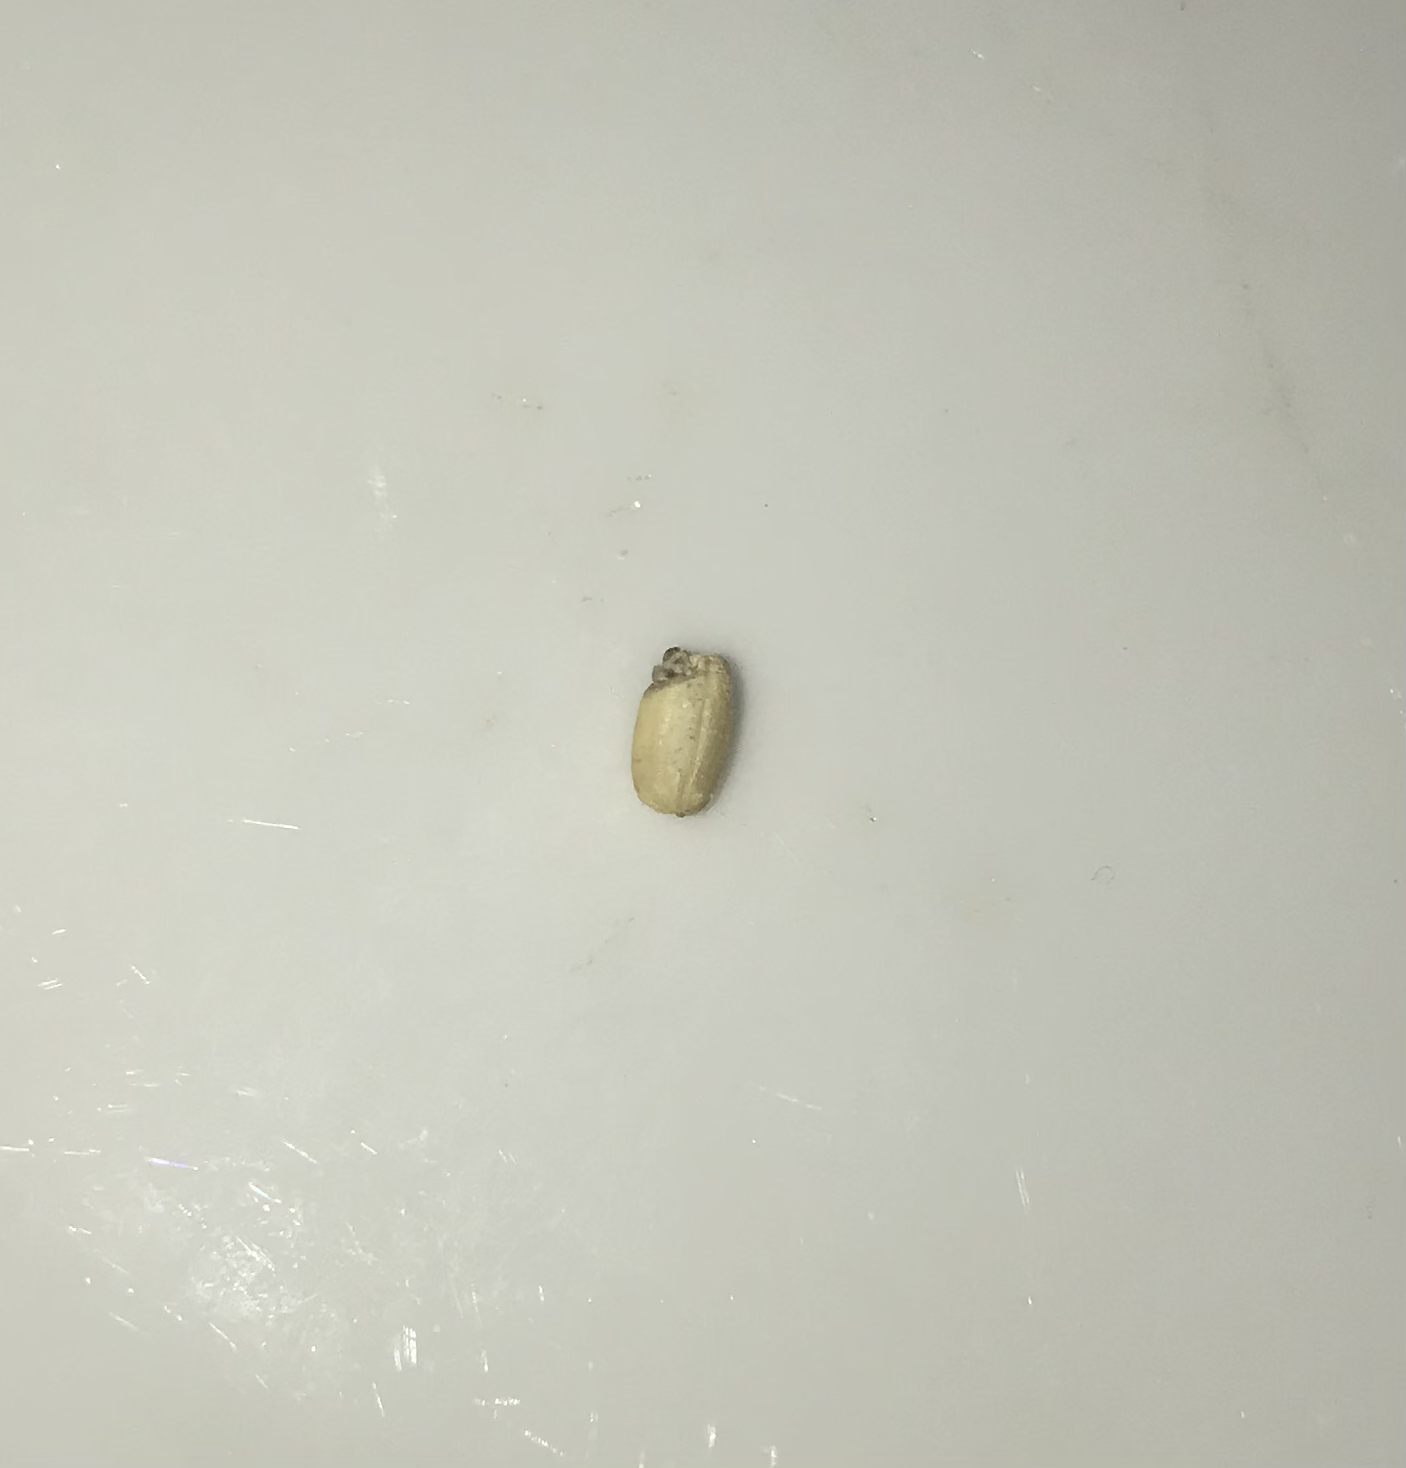Gao Lut Bac: (622, 633, 743, 838)
